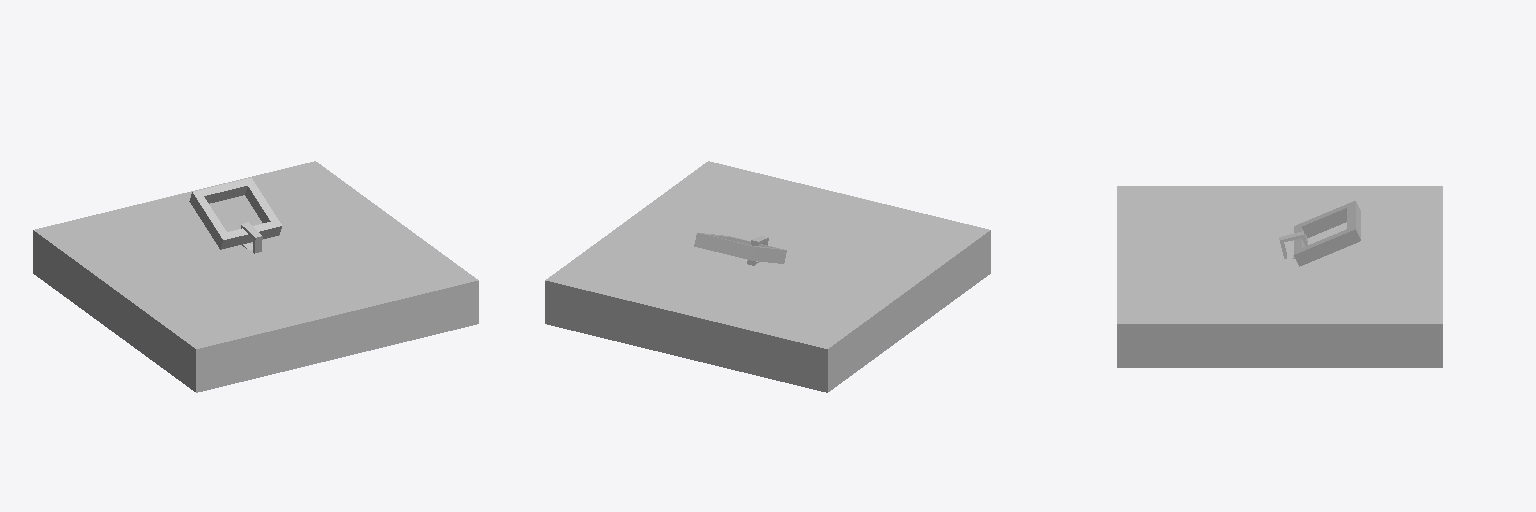
Rendered from TrapDoor.obj.
3 views of the same model, side by side, from view 1: azimuth 30°, elevation 25°; view 2: azimuth 150°, elevation 25°; view 3: azimuth 270°, elevation 25° (orthographic).
Visible parts, largest first — view 1: Cube; view 2: Cube; view 3: Cube.
Boxes of the visible parts, x1,y1,x2,y2 form: Cube: [33, 161, 478, 392]; Cube: [545, 161, 990, 392]; Cube: [1117, 186, 1442, 367].
Bounding box in the file's own units: 1 × 0.2897 × 1.